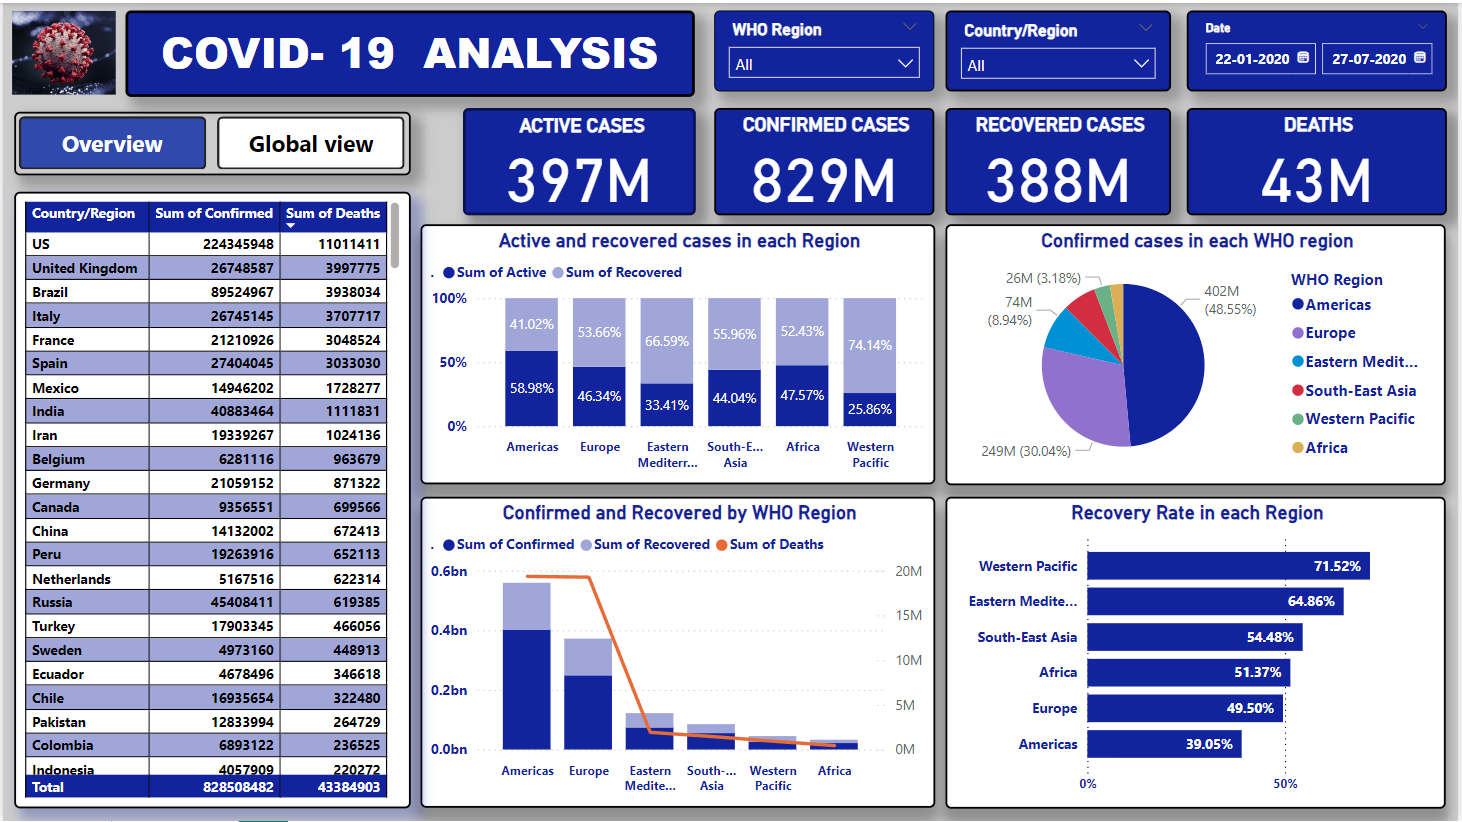

What the dashboard file says about the page in this screenshot:
{"tool":"powerbi","page":{"name":"Overview","canvas":[1280,720],"ordinal":0},"visuals":[{"type":"slicer","fields":{"Values":["covid_19_clean_complete.Country/Region"]},"box":[829.2,6.1,198.5,71.4],"z":0},{"type":"textbox","box":[107.7,6.1,501.1,76.3],"z":1000},{"type":"slicer","fields":{"Values":["covid_19_clean_complete.WHO Region"]},"box":[625.8,6.1,193.7,71.4],"z":2000},{"type":"slicer","fields":{"Values":["covid_19_clean_complete.Date"]},"box":[1041,6.1,228.8,71.4],"z":3000},{"type":"card","title":"ACTIVE CASES","fields":{"Values":["Sum(covid_19_clean_complete.Active)"]},"box":[404.3,92,204.6,94.4],"z":4000},{"type":"card","title":"DEATHS","fields":{"Values":["Sum(covid_19_clean_complete.Deaths)"]},"box":[1041,92,228.8,94.4],"z":5000},{"type":"card","title":"CONFIRMED CASES","fields":{"Values":["Sum(covid_19_clean_complete.Confirmed)"]},"box":[625.8,92,193.7,94.4],"z":6000},{"type":"card","title":"RECOVERED CASES","fields":{"Values":["Sum(covid_19_clean_complete.Recovered)"]},"box":[829.2,92,198.5,94.4],"z":7000},{"type":"pageNavigator","box":[9.7,95.6,348.6,55.7],"z":8000},{"type":"hundredPercentStackedColumnChart","title":"Active and recovered cases in each Region","fields":{"Category":["covid_19_clean_complete.WHO Region"],"Y":["Sum(covid_19_clean_complete.Active)","Sum(covid_19_clean_complete.Recovered)"]},"box":[366.8,194.9,452.7,228.8],"z":9000},{"type":"pieChart","title":"Confirmed cases in each WHO region","fields":{"Y":["Sum(covid_19_clean_complete.Confirmed)"],"Category":["covid_19_clean_complete.WHO Region"]},"box":[829.6,194.8,440,229.4],"z":10000},{"type":"barChart","title":"Recovery Rate in each Region","fields":{"Category":["covid_19_clean_complete.WHO Region"],"Y":["covid_19_clean_complete.Recovery Percentage"]},"box":[829.6,434.3,440,274.1],"z":11000},{"type":"lineStackedColumnComboChart","title":"Confirmed and Recovered by WHO Region","fields":{"Category":["covid_19_clean_complete.WHO Region"],"Y":["Sum(covid_19_clean_complete.Confirmed)","Sum(covid_19_clean_complete.Recovered)"],"Y2":["Sum(covid_19_clean_complete.Deaths)"]},"box":[366.8,434.6,452.7,273.6],"z":12000},{"type":"tableEx","fields":{"Values":["covid_19_clean_complete.Country/Region","Sum(covid_19_clean_complete.Confirmed)","Sum(covid_19_clean_complete.Deaths)"]},"box":[9.7,165.8,348.6,542.3],"z":13000},{"type":"image","box":[0,2.4,107.7,83.5],"z":14000}]}

Visuals, with their boxes in screenshot pixels (x1, y1, x2, y2), scaled from the page's 1280x720 canvas onto the 1462x822 screenshot:
slicer - covid_19_clean_complete.Country/Region: [x1=947, y1=7, x2=1174, y2=88]
textbox: [x1=123, y1=7, x2=695, y2=94]
slicer - covid_19_clean_complete.WHO Region: [x1=715, y1=7, x2=936, y2=88]
slicer - covid_19_clean_complete.Date: [x1=1189, y1=7, x2=1450, y2=88]
"ACTIVE CASES" card: [x1=462, y1=105, x2=695, y2=213]
"DEATHS" card: [x1=1189, y1=105, x2=1450, y2=213]
"CONFIRMED CASES" card: [x1=715, y1=105, x2=936, y2=213]
"RECOVERED CASES" card: [x1=947, y1=105, x2=1174, y2=213]
pageNavigator: [x1=11, y1=109, x2=409, y2=173]
"Active and recovered cases in each Region" hundredPercentStackedColumnChart: [x1=419, y1=223, x2=936, y2=484]
"Confirmed cases in each WHO region" pieChart: [x1=948, y1=222, x2=1450, y2=484]
"Recovery Rate in each Region" barChart: [x1=948, y1=496, x2=1450, y2=809]
"Confirmed and Recovered by WHO Region" lineStackedColumnComboChart: [x1=419, y1=496, x2=936, y2=809]
tableEx - covid_19_clean_complete.Country/Region x Sum(covid_19_clean_complete.Confirmed): [x1=11, y1=189, x2=409, y2=808]
image: [x1=0, y1=3, x2=123, y2=98]
